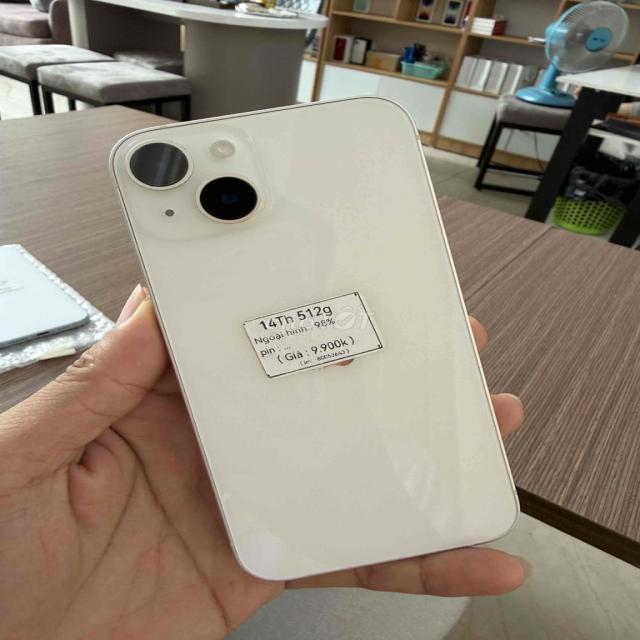gen_14: (108, 92, 530, 584)
